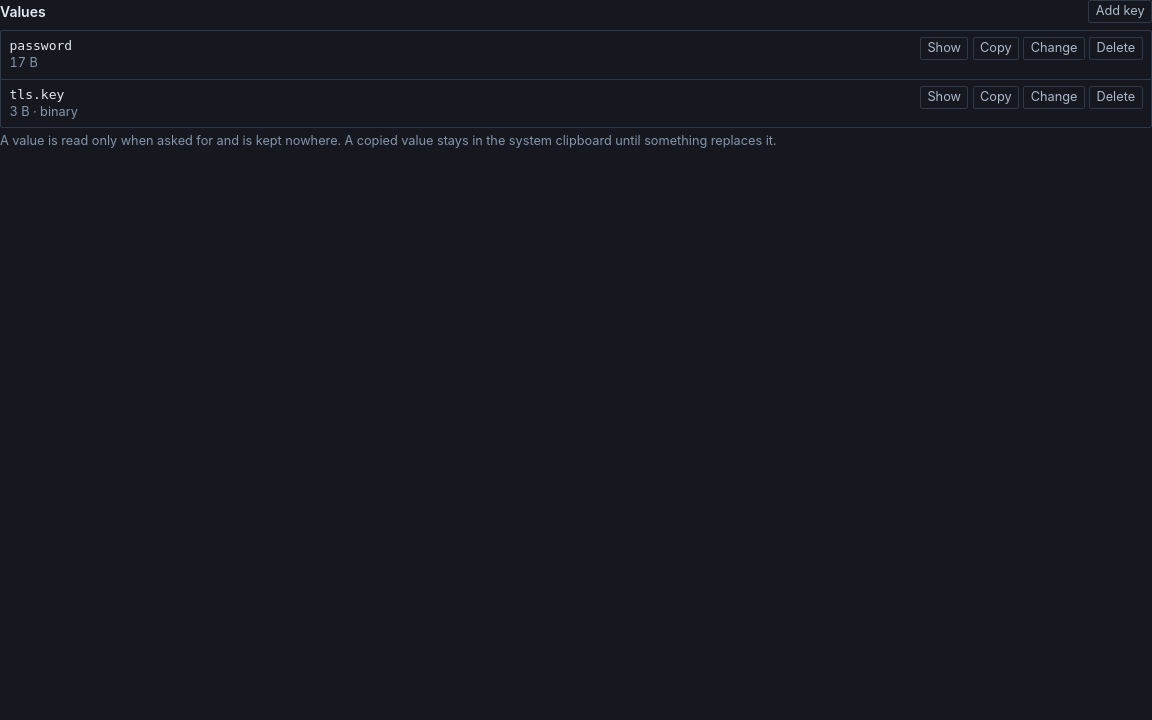
Test: changing a value › an existing key starts not loaded: Review waits for Load current or typing
The width and height of the screenshot is (1152, 720).
Expected: the text "password" is shown, 10,38 -> 72,53
Step 1. Click the button "Change" in the row of "password" → point(1054, 49), box 1023,37 -> 1085,60
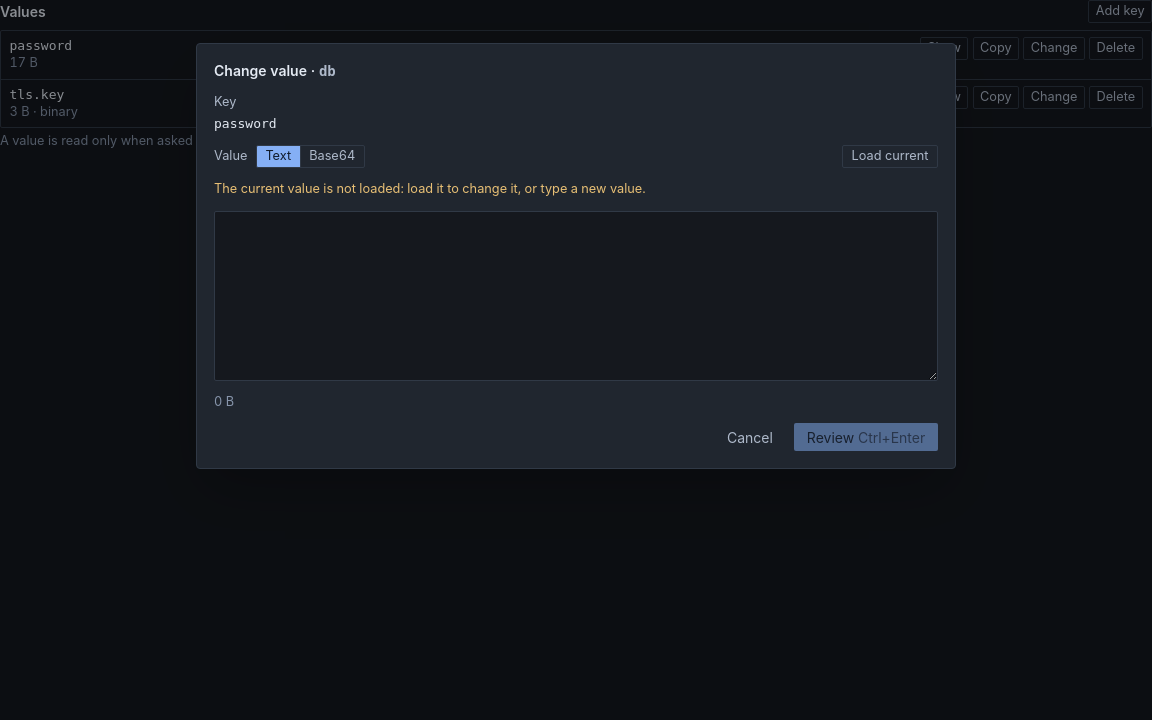
Expected: the text box named "Value" is empty, 214,211 -> 938,381
Expected: the dialog shows "The current value is not loaded", 214,181 -> 646,196
Expected: the button "Review Ctrl+Enter" is disabled, 794,423 -> 938,452
Step 2. Click the button "Load current" → point(890, 157), box 842,145 -> 938,168
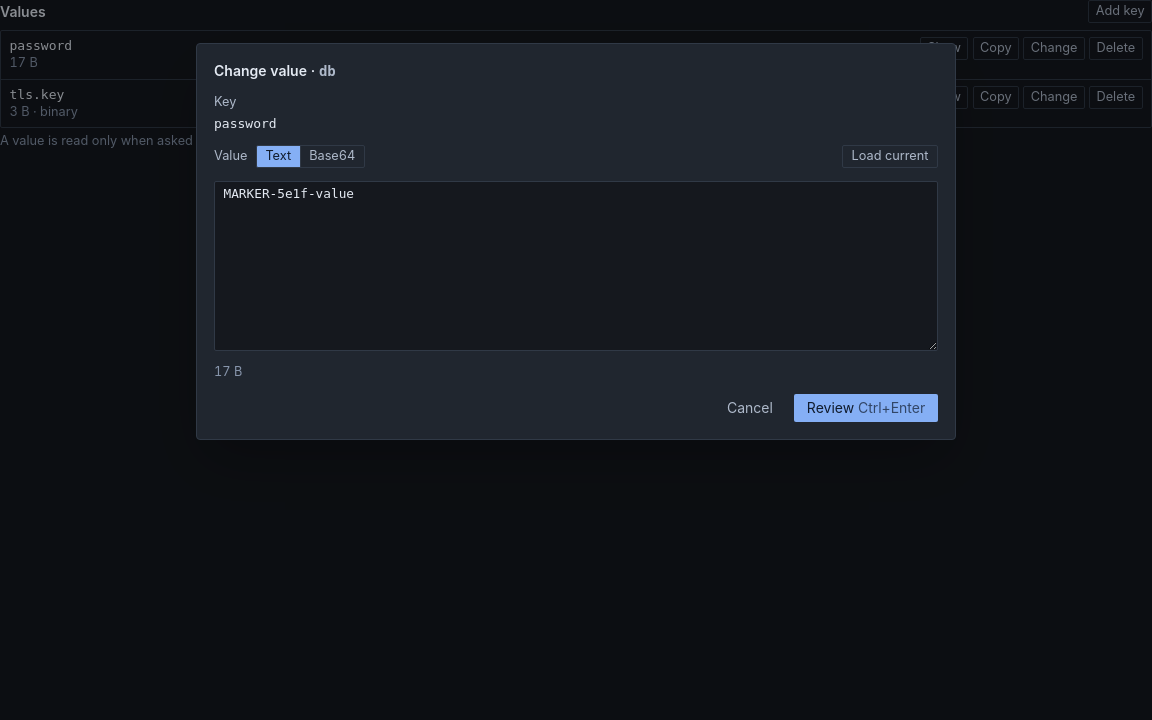
Expected: the text box named "Value" holds "MARKER-5e1f-value"
Expected: the button "Review Ctrl+Enter" is enabled, 794,394 -> 938,422
Step 3. Replace the text in the text box named "Value" with "new" → point(576, 266), box 214,181 -> 938,351
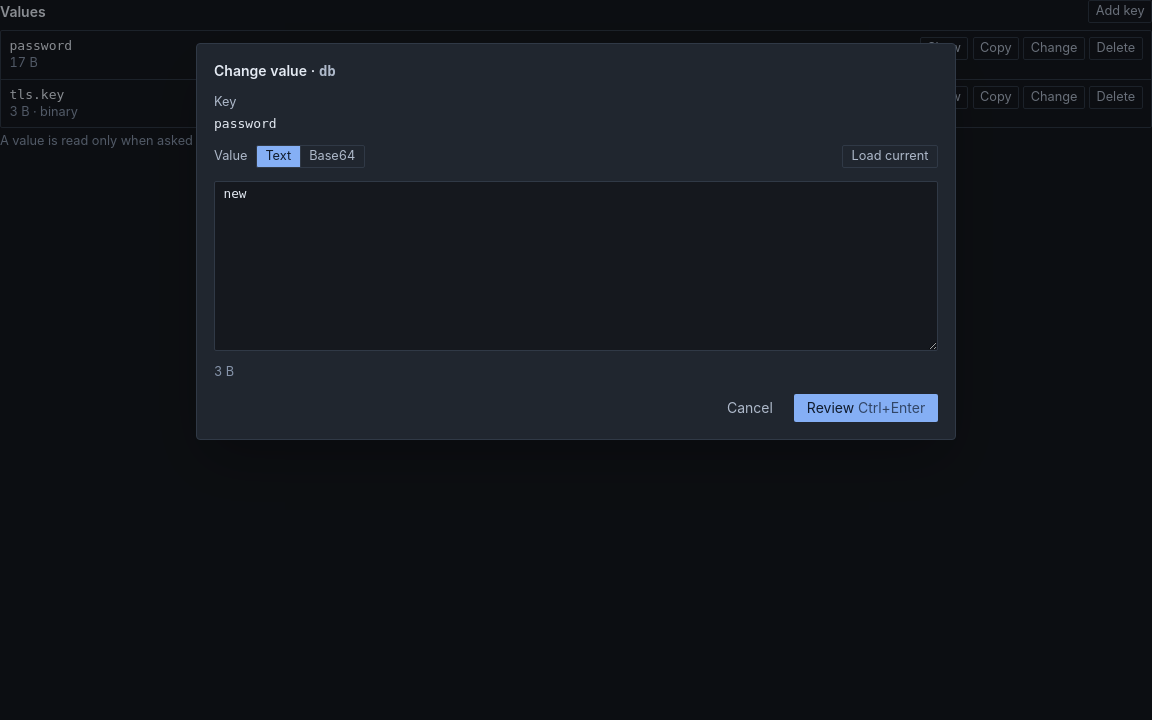
Step 4. Click the button "Review Ctrl+Enter" → point(866, 408), box 794,394 -> 938,422
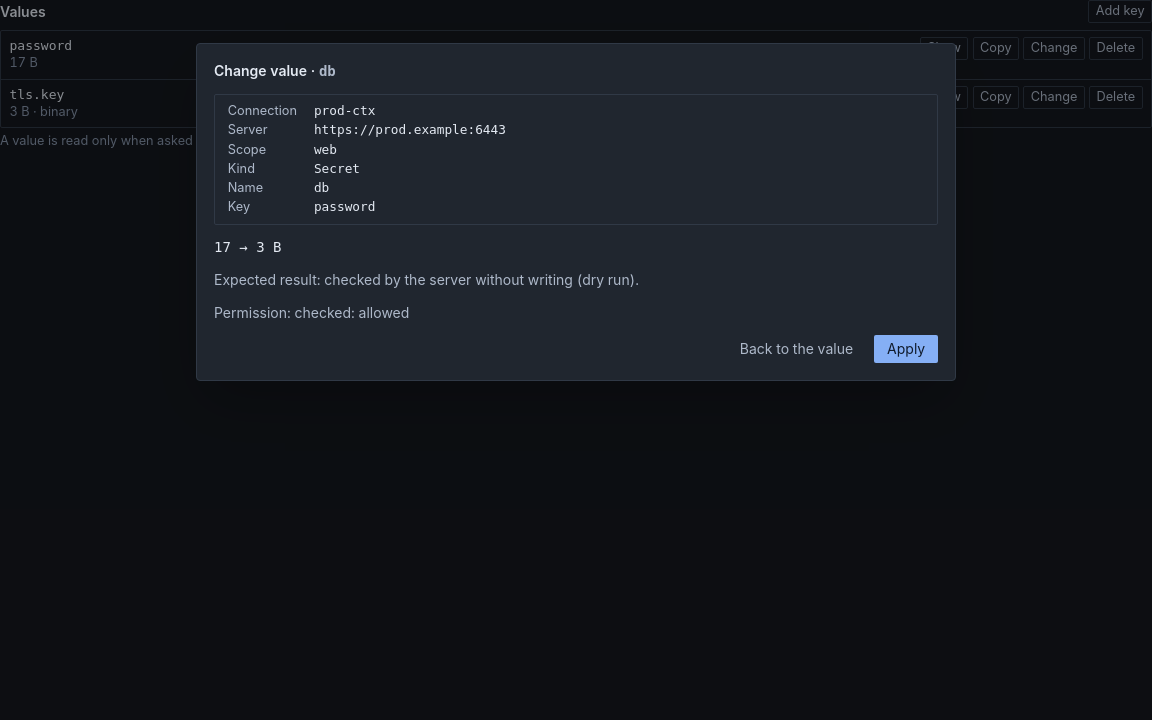
Expected: the dialog does not show "MARKER-5e1f-value", 196,42 -> 956,381
Expected: the dialog does not show "new →", 196,42 -> 956,381
Step 5. Click the button "Apply" → point(906, 349), box 874,335 -> 938,363
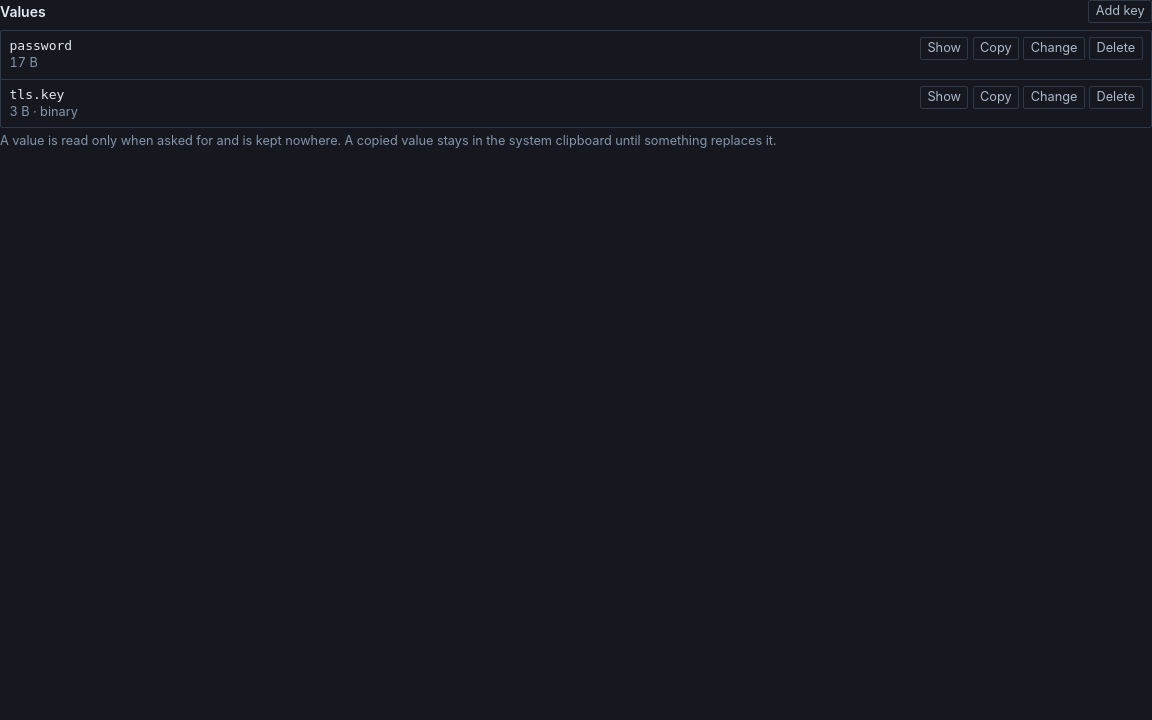
Expected: the dialog is gone
